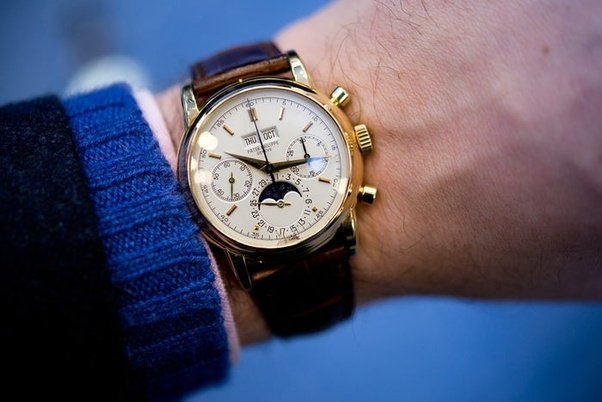clock: (189, 87, 351, 248)
